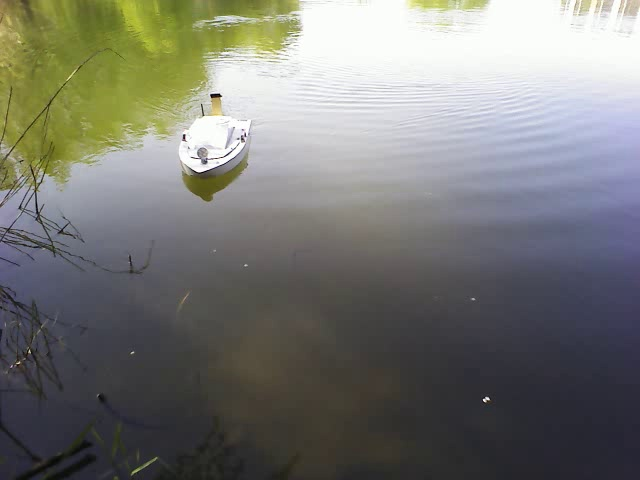boat: (174, 105, 255, 182)
